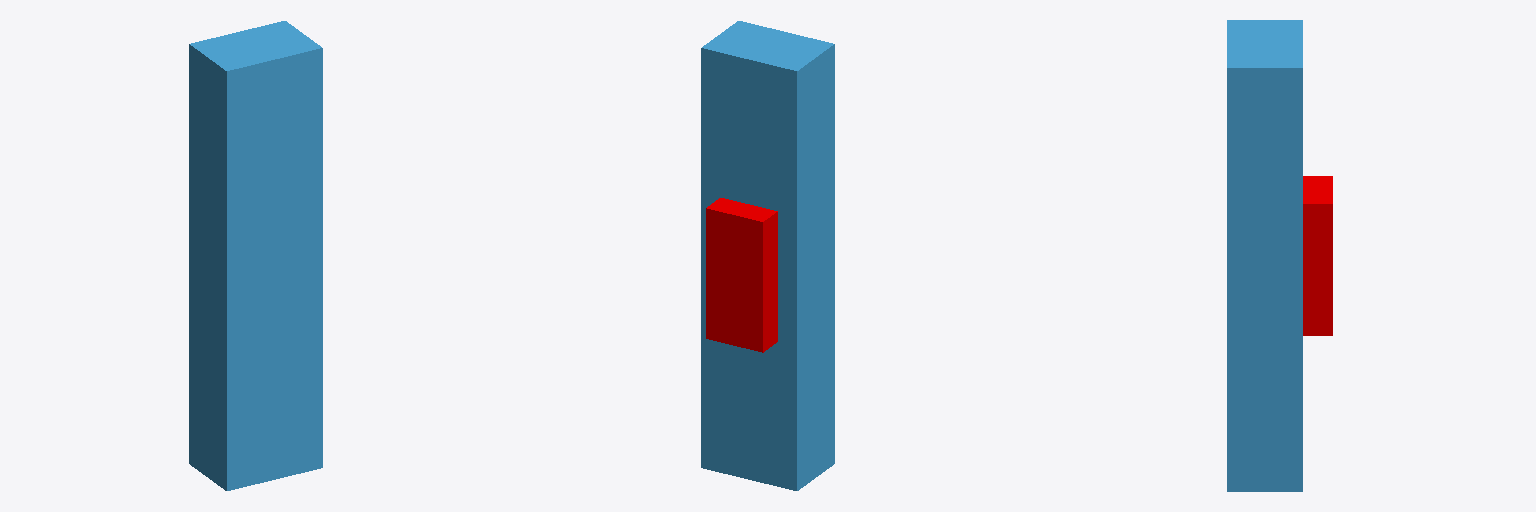
URDF robot description (knife):
<?xml version='1.0' encoding='utf-8'?>
<robot name="knife">
  <link name="link_1">
    <visual name="link_1">
      <origin xyz="0 0.011280 0" rpy="0 0 0" />
      <geometry>
        <box size="0.014284525294213984 0.006363852971361842 0.0311173289796098" /></geometry>
    <material name="red"><color rgba="1 0 0 1" /></material></visual>
    <collision>
      <origin xyz="0 0.011280 0" rpy="0 0 0" />
      <geometry>
        <box size="0.014284525294213984 0.006363852971361842 0.0311173289796098" /></geometry>
    </collision>
    </link>
  <joint name="joint_1" type="prismatic">
    <origin xyz="0 0 0" />
    <axis xyz="0 0 1" />
    <child link="link_1" />
    <parent link="link_0" />
    <limit lower="-0.017829" upper="0.032171" effort="100.0" velocity="1.0" />
  </joint>
  <link name="link_0">
    <visual name="link_0">
      <origin xyz="0 0 0" />
      <geometry>
        <box size="0.023975173816077455 0.016195756116611133 0.1001047834591953" /></geometry>
    </visual>
    <collision>
      <origin xyz="0 0 0" />
      <geometry>
        <box size="0.023975173816077455 0.016195756116611133 0.1001047834591953" /></geometry>
    </collision>
    </link>
</robot>

--- Render facts (derived) ---
3 views of the same robot in one strip: view 1: azimuth 30°, elevation 25°; view 2: azimuth 150°, elevation 25°; view 3: azimuth 270°, elevation 25° (orthographic).
Robot: knife — 2 links, 1 joints (1 prismatic); root link link_0; default pose: all joints at 0.
Visible links, largest first — view 1: link_0; view 2: link_0, link_1; view 3: link_0, link_1.
Link boxes in pixels (x1=…): link_0: x1=189, y1=21, x2=322, y2=490; link_0: x1=701, y1=21, x2=834, y2=490; link_1: x1=706, y1=198, x2=777, y2=352; link_0: x1=1227, y1=20, x2=1302, y2=491; link_1: x1=1303, y1=176, x2=1332, y2=335.
Bounding box of the posed robot: 0.024 × 0.0226 × 0.1001 m (x, y, z).
Geometry: primitives only (box / cylinder / sphere), no mesh files.
